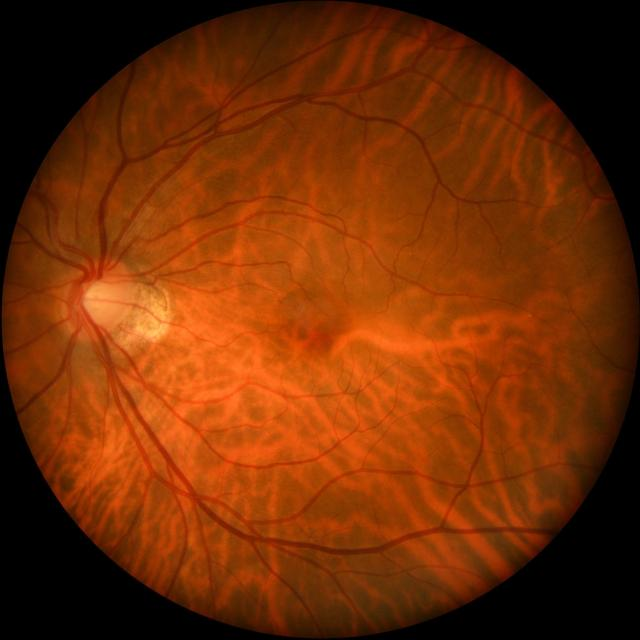OC: (81, 278, 118, 321)
OD: (66, 258, 130, 337)
